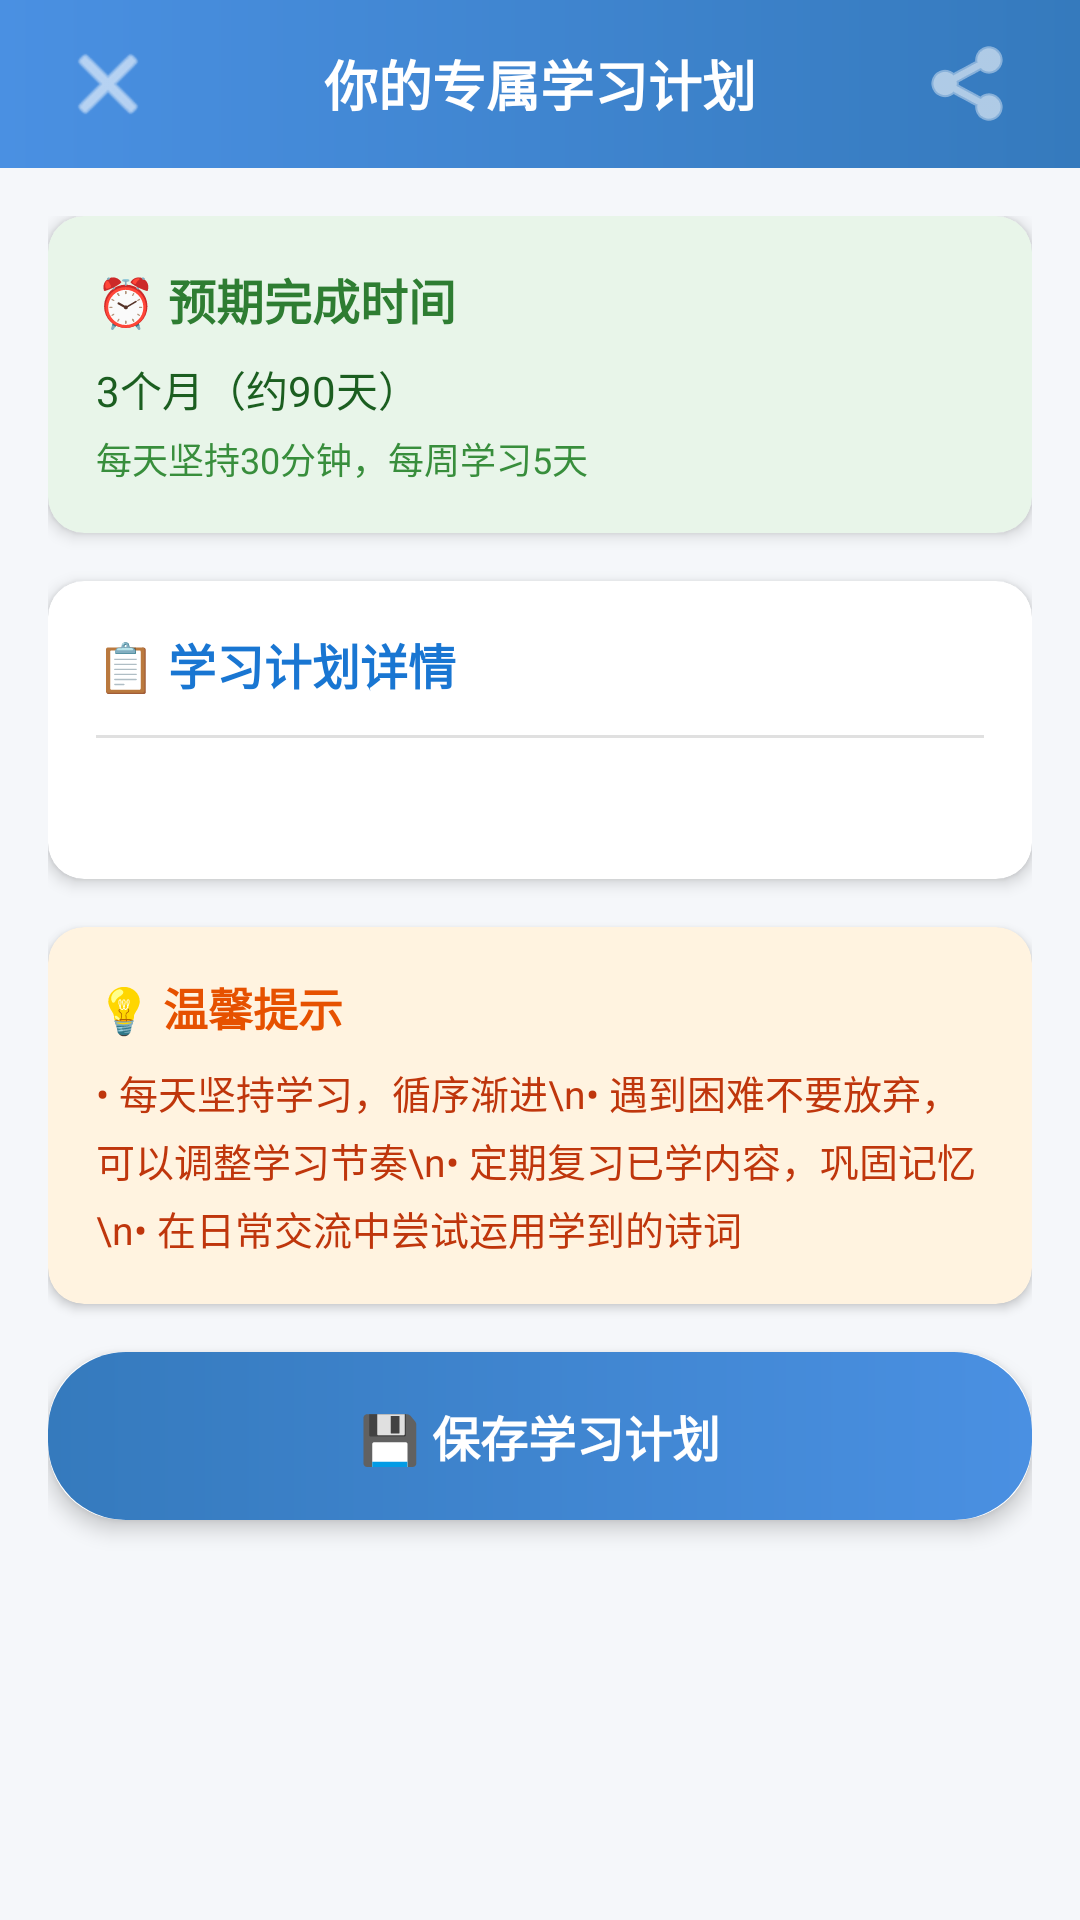

Point at icon controls on the screen. Image size 1080 × 1920, points as point (x, y).
close clear cancel: point (108, 84)
share: point (967, 83)
